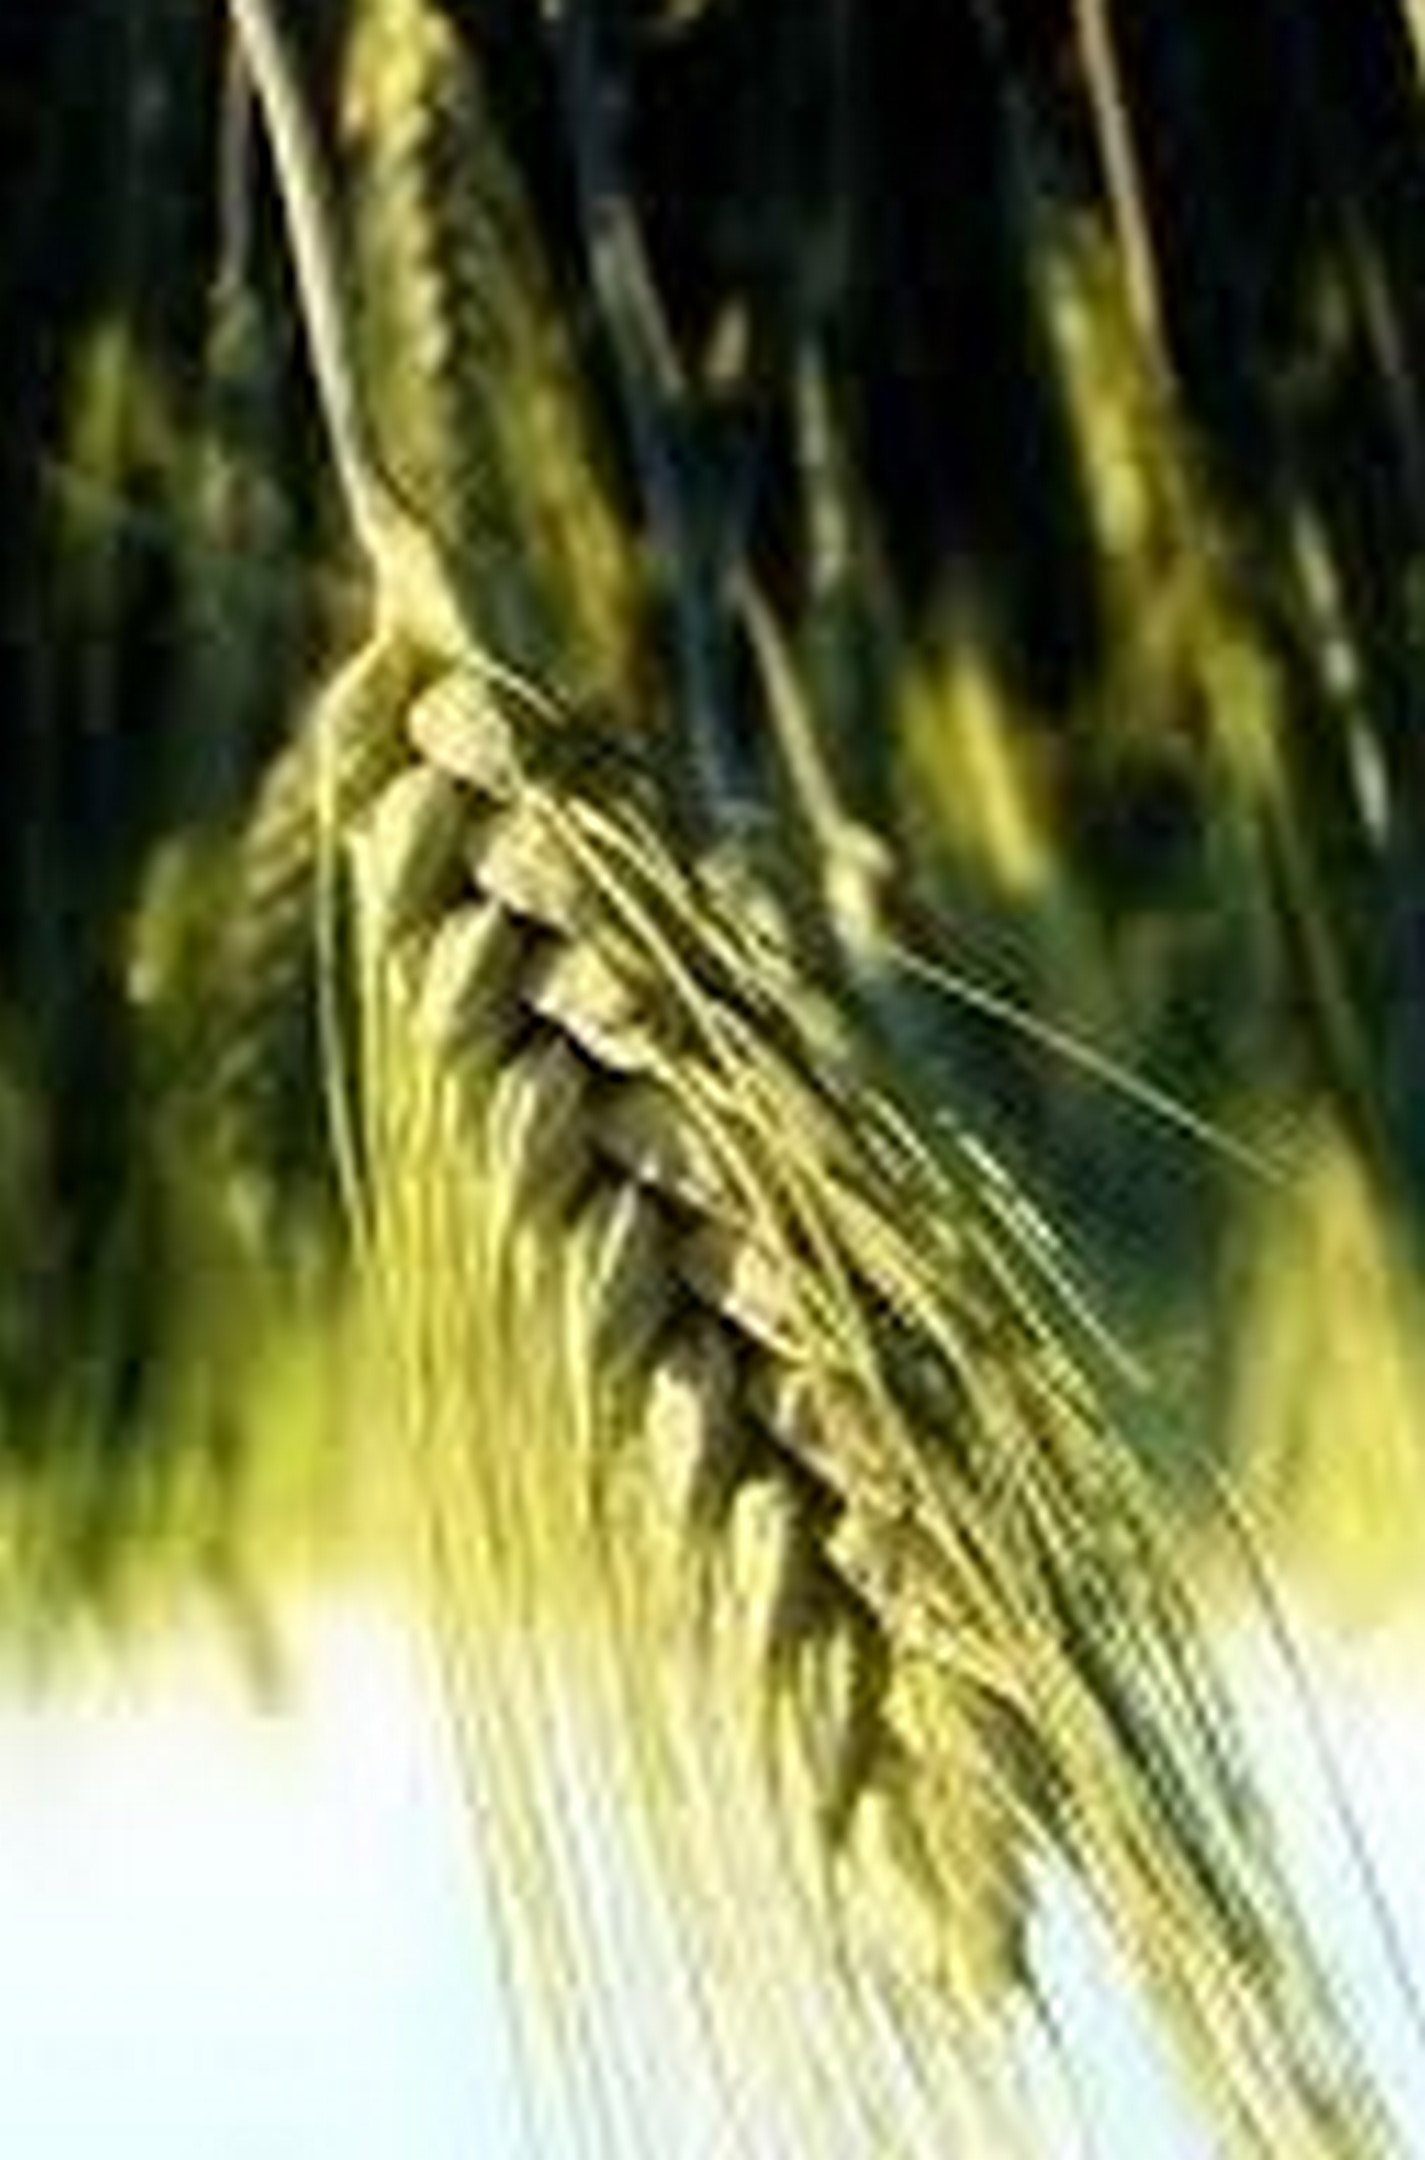Healthy Wheat: (305, 624, 1115, 1953)
